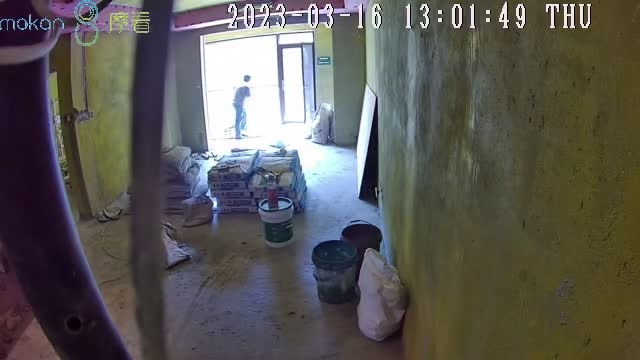people: (232, 74, 249, 139)
window: (206, 32, 316, 135)
